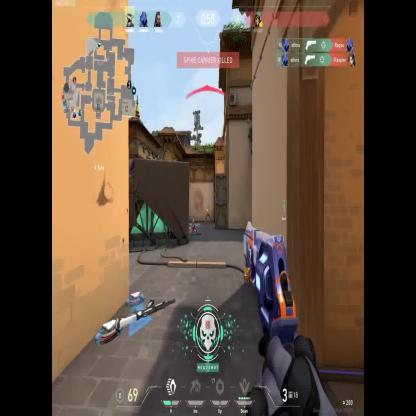enemy: (205, 206, 211, 221)
enemy_head: (207, 207, 209, 210)
